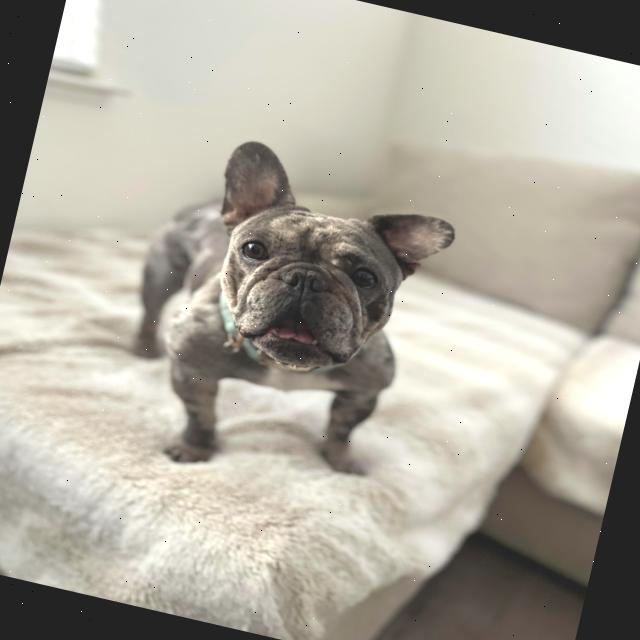french_bulldog_dog: (171, 124, 479, 418)
